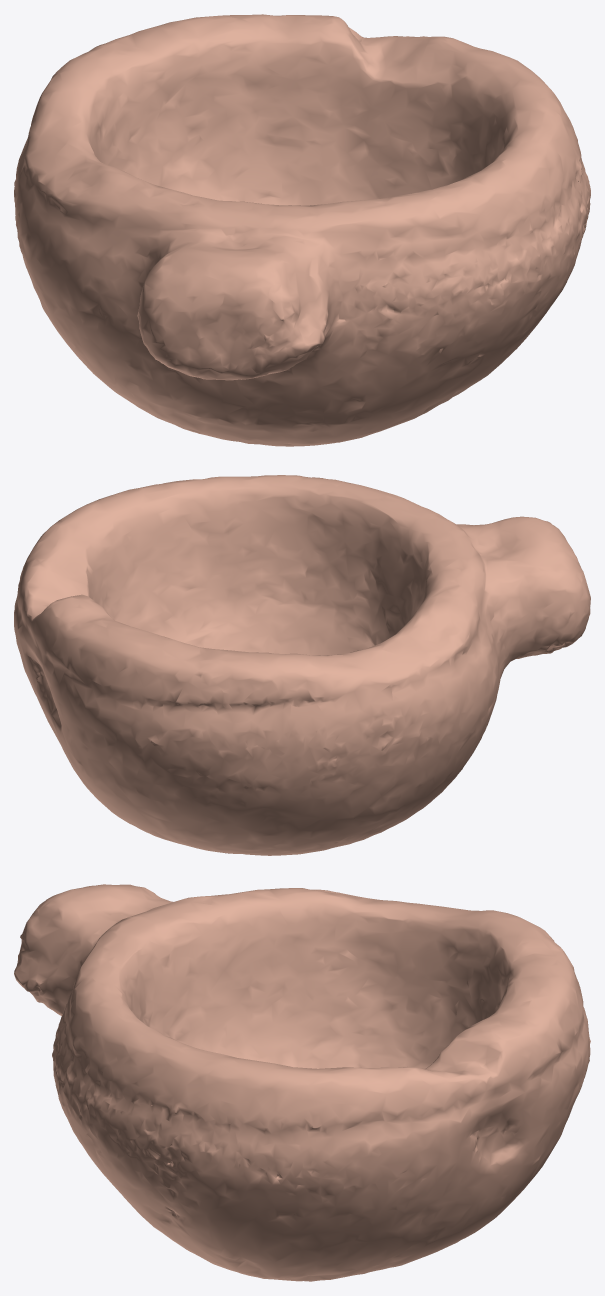
File: wc-iron-age-cup-lamp.glb
3 renders of one model, top to bottom at view 1: azimuth 30°, elevation 25°; view 2: azimuth 150°, elevation 25°; view 3: azimuth 270°, elevation 25°, orthographic. The views are drawn at different scales.
Parts seen in each view (by area): view 1: wc-iron-age-cup-lamp; view 2: wc-iron-age-cup-lamp; view 3: wc-iron-age-cup-lamp.
Boxes of the visible parts, x1,y1,x2,y2 form: wc-iron-age-cup-lamp: [14, 14, 590, 446]; wc-iron-age-cup-lamp: [14, 475, 590, 855]; wc-iron-age-cup-lamp: [14, 884, 590, 1281].
Size of the model in its own units: 0.1123 by 0.06 by 0.1172.
